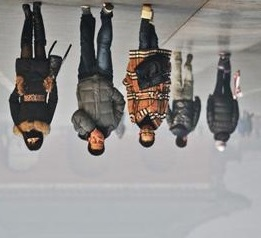person: (71, 3, 125, 156), (9, 1, 59, 152), (123, 4, 171, 149), (167, 51, 201, 148), (206, 52, 239, 149), (115, 113, 126, 140), (246, 112, 256, 139), (237, 111, 246, 137)
